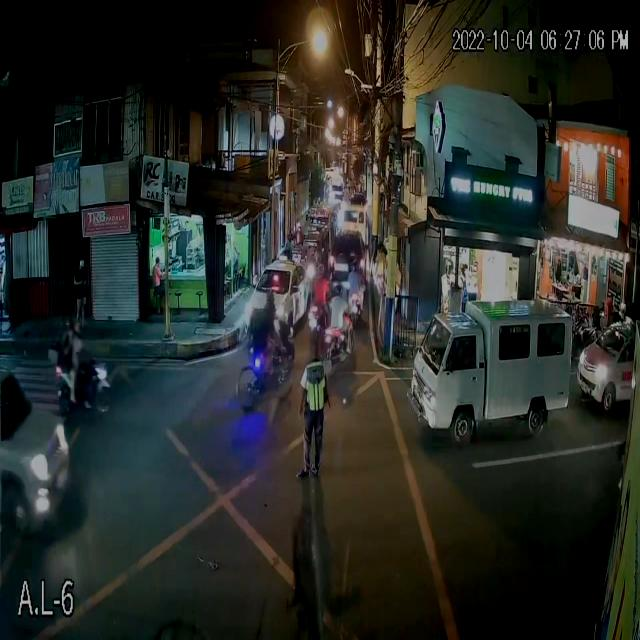Full-Faced: (264, 283, 282, 310), (349, 253, 361, 278), (333, 280, 344, 298)
